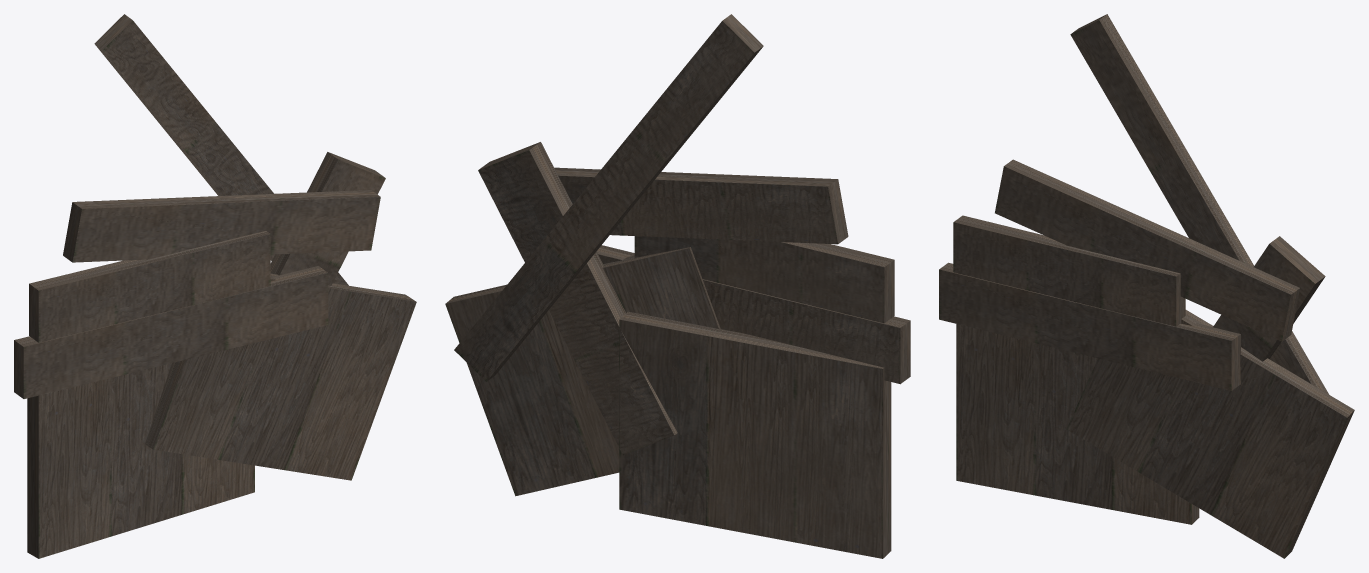
Rendered from broken_window.fbx.
The picture shows the model from 3 angles, left to right: view 1: azimuth 30°, elevation 25°; view 2: azimuth 150°, elevation 25°; view 3: azimuth 330°, elevation 25°; orthographic projection. The views are drawn at different scales.
Parts seen in each view (by area): view 1: Cube.034, Cube.032, Cube.033, Cube.025, Cube.029, Cube.031, Cube.030; view 2: Cube.032, Cube.034, Cube.031, Cube.030, Cube.033, Cube.029, Cube.025; view 3: Cube.034, Cube.032, Cube.033, Cube.025, Cube.029, Cube.031, Cube.030.
Boxes of the visible parts, x1,y1,x2,y2 form: Cube.034: (145, 273, 416, 480); Cube.032: (27, 363, 254, 558); Cube.033: (63, 190, 380, 262); Cube.025: (14, 266, 328, 398); Cube.029: (29, 231, 270, 342); Cube.031: (94, 14, 348, 285); Cube.030: (270, 152, 385, 285); Cube.032: (619, 311, 891, 558); Cube.034: (445, 247, 720, 496); Cube.031: (454, 14, 763, 381); Cube.030: (478, 142, 677, 455); Cube.033: (554, 167, 848, 244); Cube.029: (634, 236, 894, 323); Cube.025: (596, 245, 910, 384); Cube.034: (1066, 310, 1354, 558); Cube.032: (956, 324, 1199, 524); Cube.033: (995, 159, 1300, 341); Cube.025: (939, 262, 1240, 390); Cube.029: (953, 215, 1185, 326); Cube.031: (1070, 14, 1328, 394); Cube.030: (1213, 236, 1325, 361).
Bounding box in the file's own units: 696 × 815 × 110.
